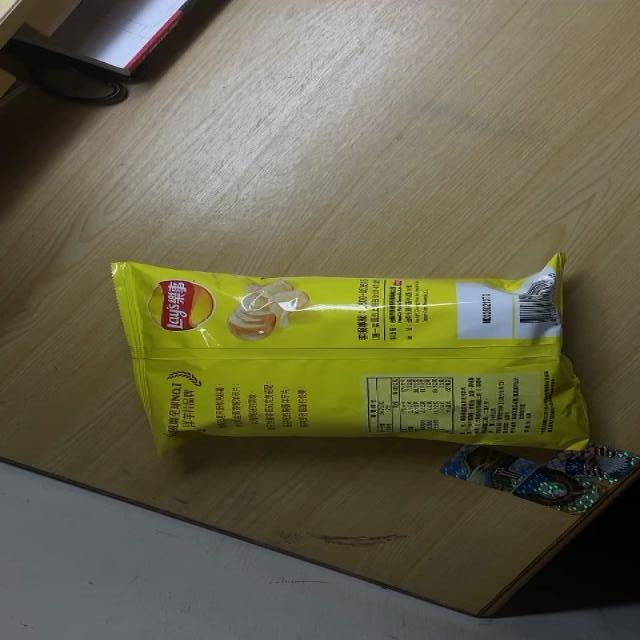Lay-s-original: (107, 251, 590, 461)
